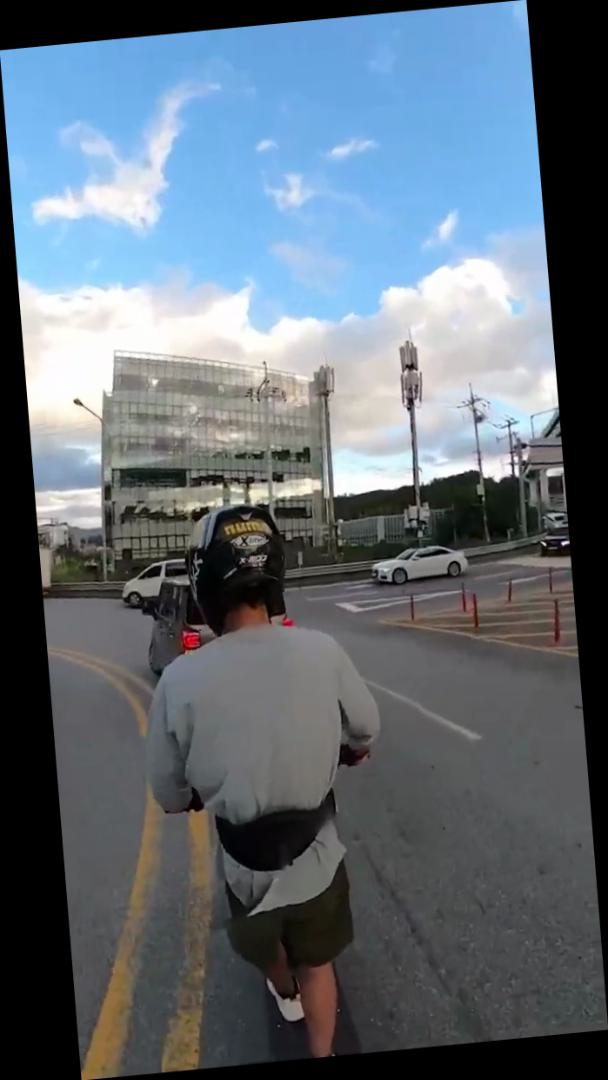helmet: (122, 493, 412, 1072)
